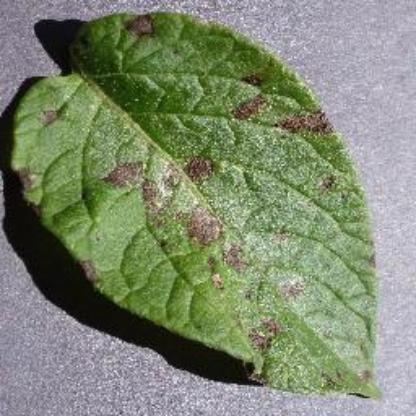Early-Blight: (5, 2, 386, 400)
